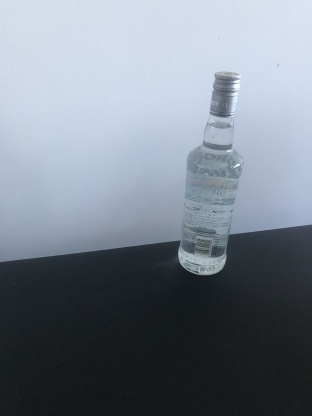nakretka: (208, 71, 241, 119)
